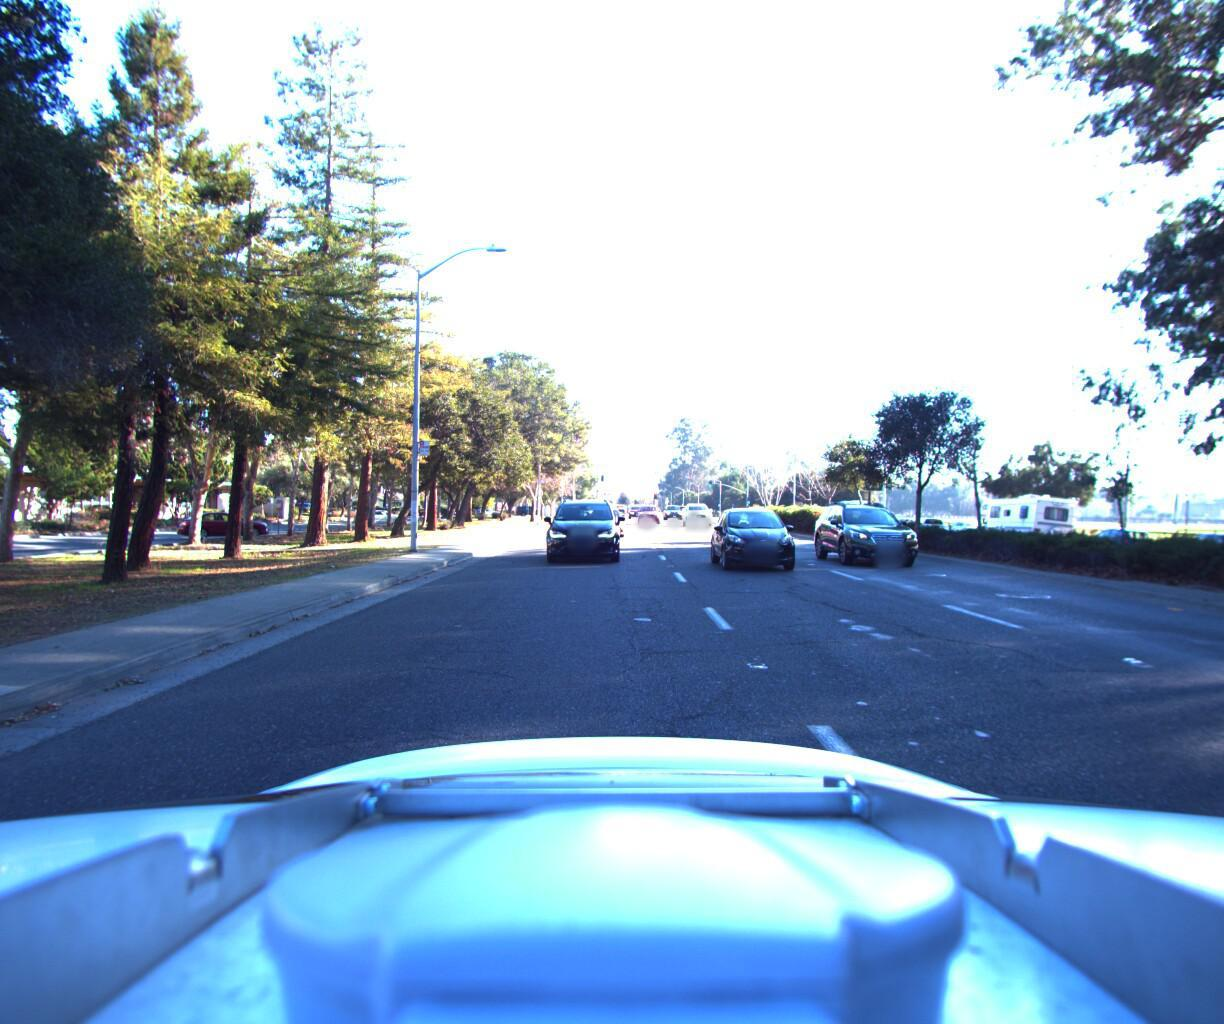car: (805, 499, 922, 575), (703, 509, 805, 579), (536, 495, 620, 573), (1075, 529, 1161, 566), (1160, 533, 1224, 576), (678, 506, 714, 533), (638, 510, 662, 532), (662, 513, 681, 528)
other_vehicle: (968, 494, 1087, 557), (830, 505, 878, 537)
